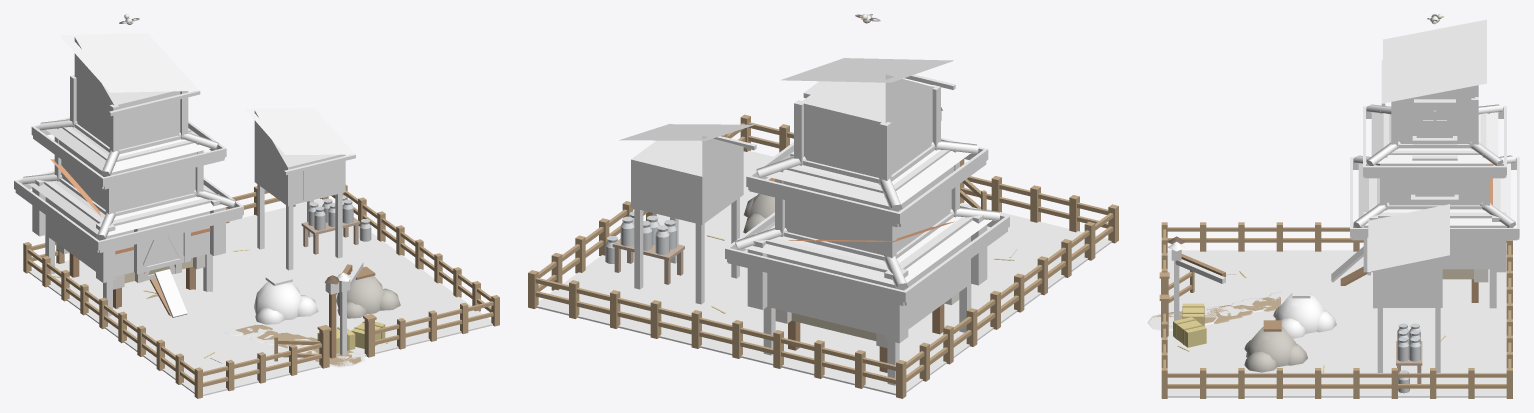
Rendered from goat_pen_1.glb.
3 views of the same model, side by side, from view 1: azimuth 30°, elevation 25°; view 2: azimuth 150°, elevation 25°; view 3: azimuth 270°, elevation 25° (orthographic). The views are drawn at different scales.
Parts seen in each view (by area): view 1: when_plan_true, body6, goat_pen_1, body5, body3; view 2: when_plan_true, body6, body5, body3; view 3: when_plan_true, body6, goat_pen_1, body5.
Part boxes in pixels (x1,y1,x2,y2): when_plan_true: (14, 14, 369, 367); body6: (23, 159, 499, 398); goat_pen_1: (118, 289, 239, 326); body5: (342, 195, 371, 241); body3: (308, 202, 325, 230); when_plan_true: (601, 14, 1016, 385); body6: (528, 107, 1118, 398); body5: (605, 211, 634, 263); body3: (655, 219, 676, 254); when_plan_true: (1147, 14, 1519, 381); body6: (1153, 163, 1512, 398); goat_pen_1: (1293, 264, 1372, 300); body5: (1397, 337, 1420, 393).
Size of the model in its own units: 2.69 by 2.5 by 2.8.
